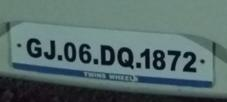0: (63, 42, 77, 64)
1: (139, 48, 152, 72)
2: (183, 48, 198, 75)
6: (78, 42, 93, 65)
7: (167, 48, 182, 72)
8: (153, 49, 168, 72)
D: (99, 43, 116, 67)
G: (26, 36, 44, 59)
J: (42, 40, 57, 61)
Q: (117, 44, 135, 72)
